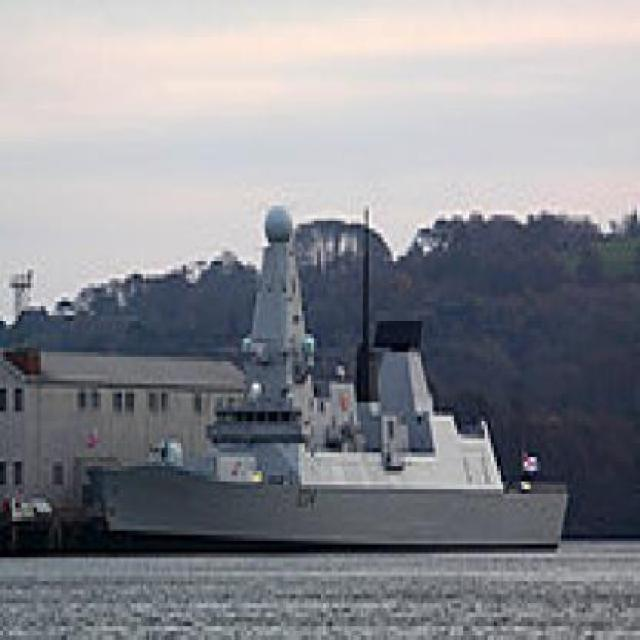warship2: (90, 184, 581, 563)
